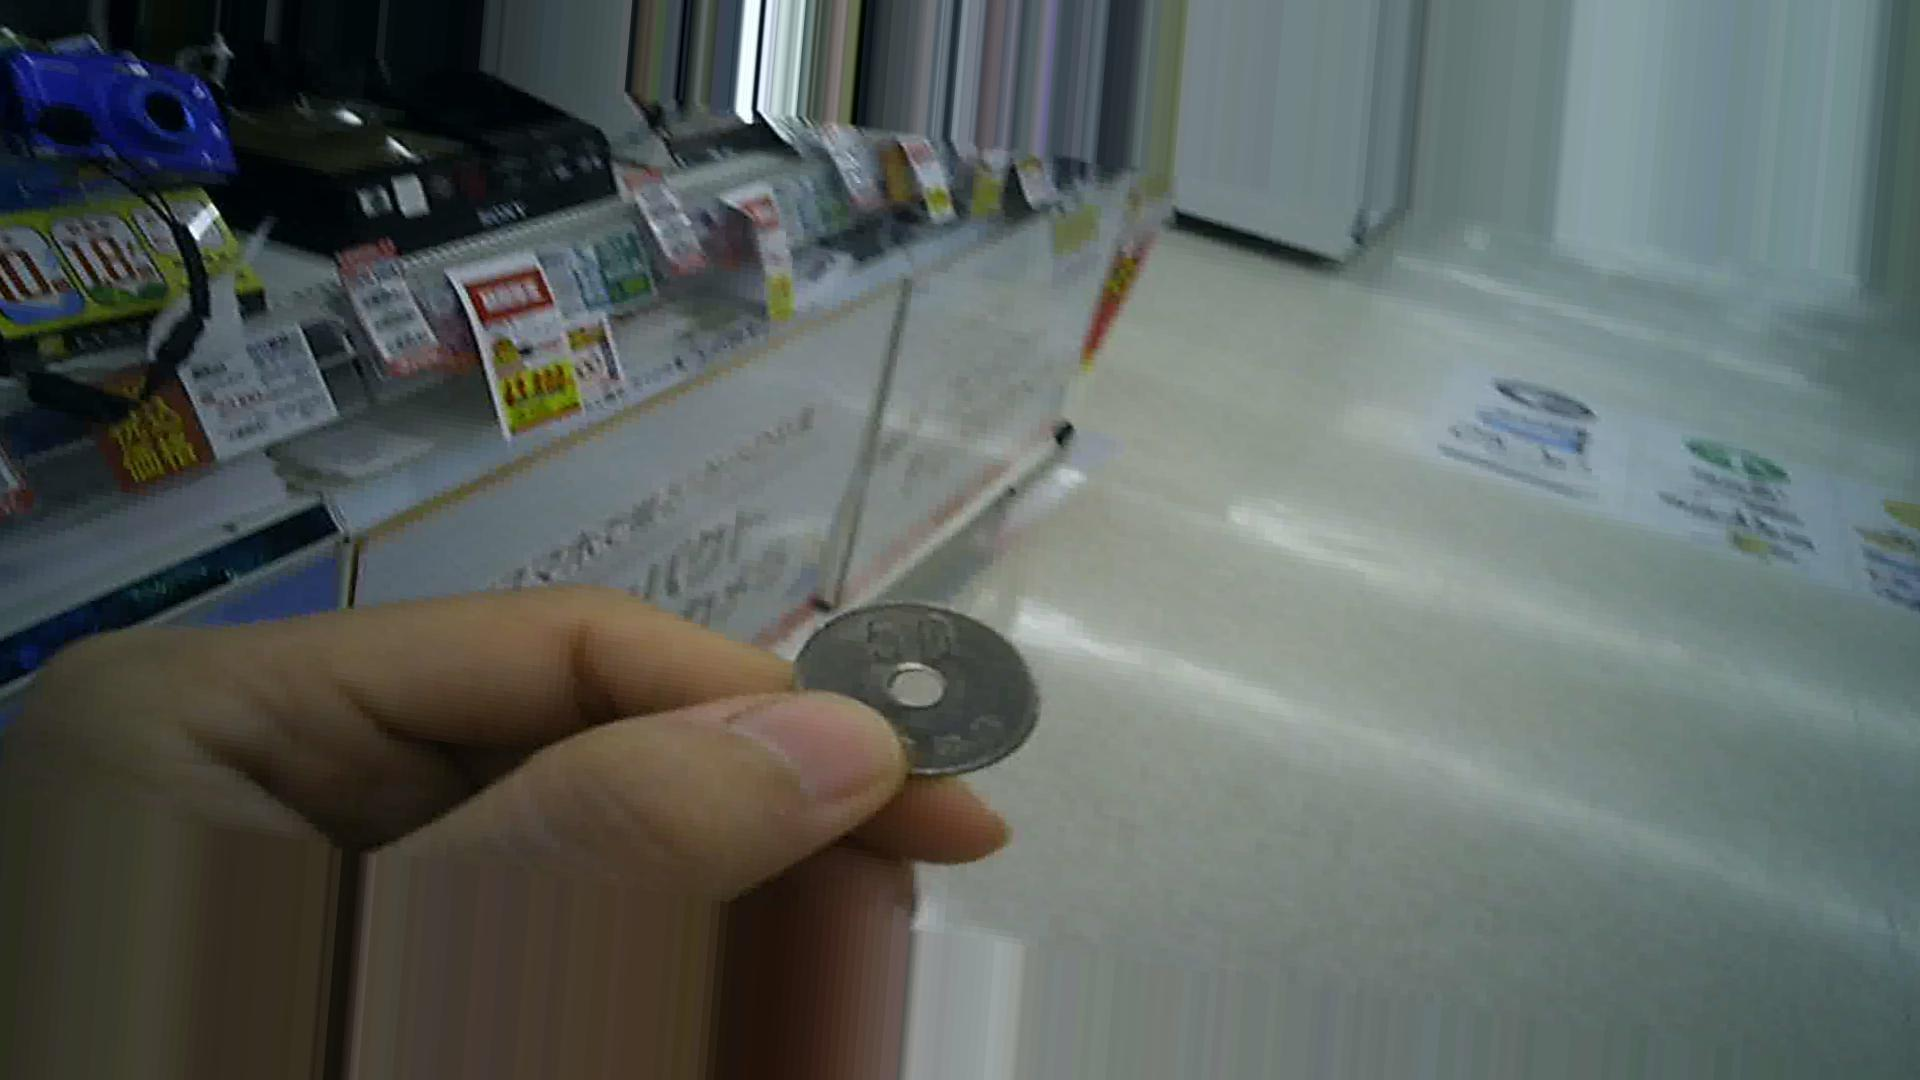50 Yen: (790, 601, 1050, 778)
